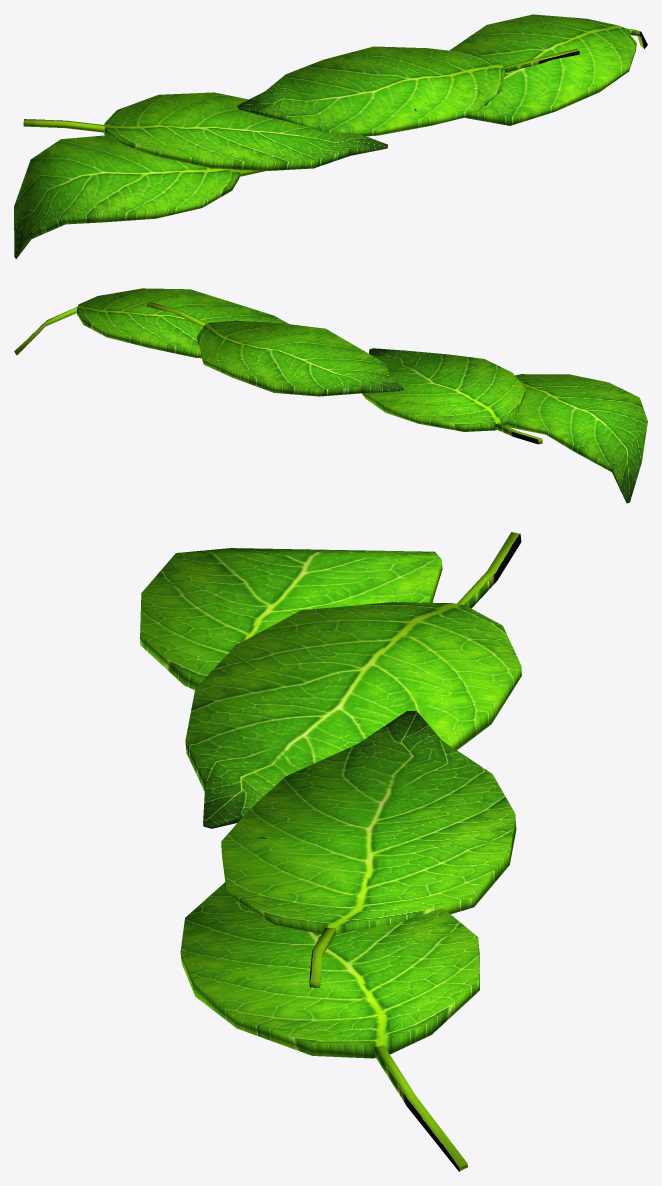
The model's file is leaf.fbx.
3 renders of one model, top to bottom at view 1: azimuth 30°, elevation 25°; view 2: azimuth 150°, elevation 25°; view 3: azimuth 270°, elevation 25°, orthographic. The views are drawn at different scales.
Parts seen in each view (by area): view 1: leaves; view 2: leaves; view 3: leaves.
Boxes of the visible parts, box(x1,y1,x2,y2) form: leaves: box(14, 14, 647, 258); leaves: box(14, 288, 647, 503); leaves: box(140, 532, 521, 1171).
Size of the model in its own units: 264 by 35.03 by 74.09.
1 material, 1 textured.
